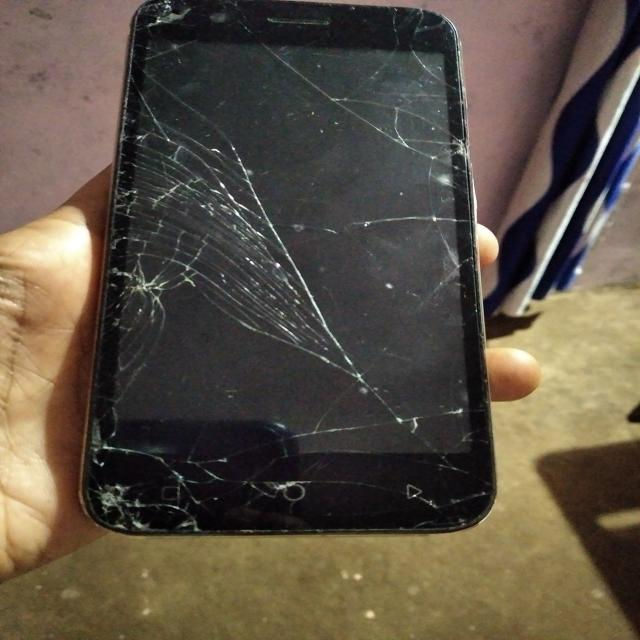Crack: (88, 4, 484, 523)
